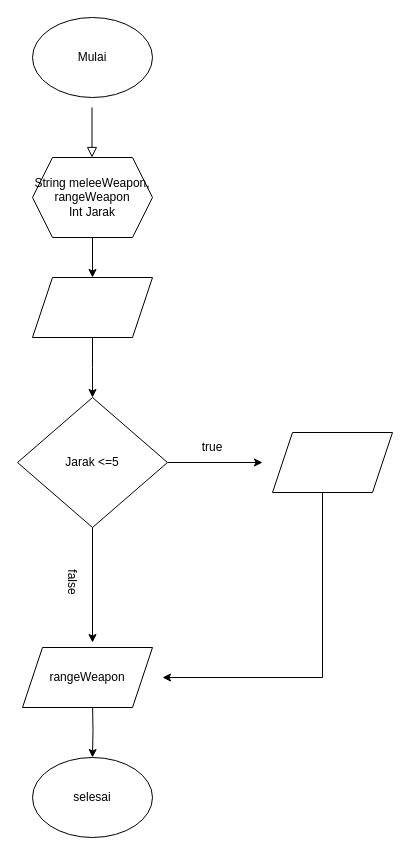
This 410x855 diagram has some shape labels left out. Here are the shapes that lost their labels. From the top down, the box of each, then its label:
(32, 276, 152, 338): Jarak
(272, 432, 392, 492): meleeWeapon
